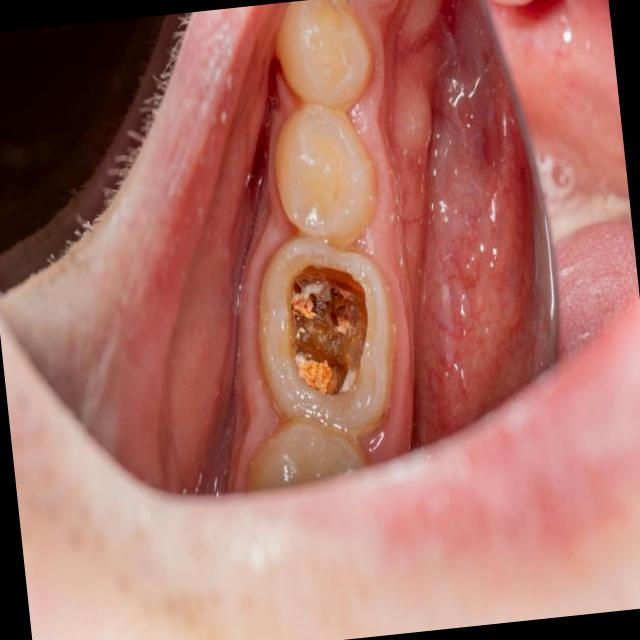caries: (243, 232, 407, 442)
